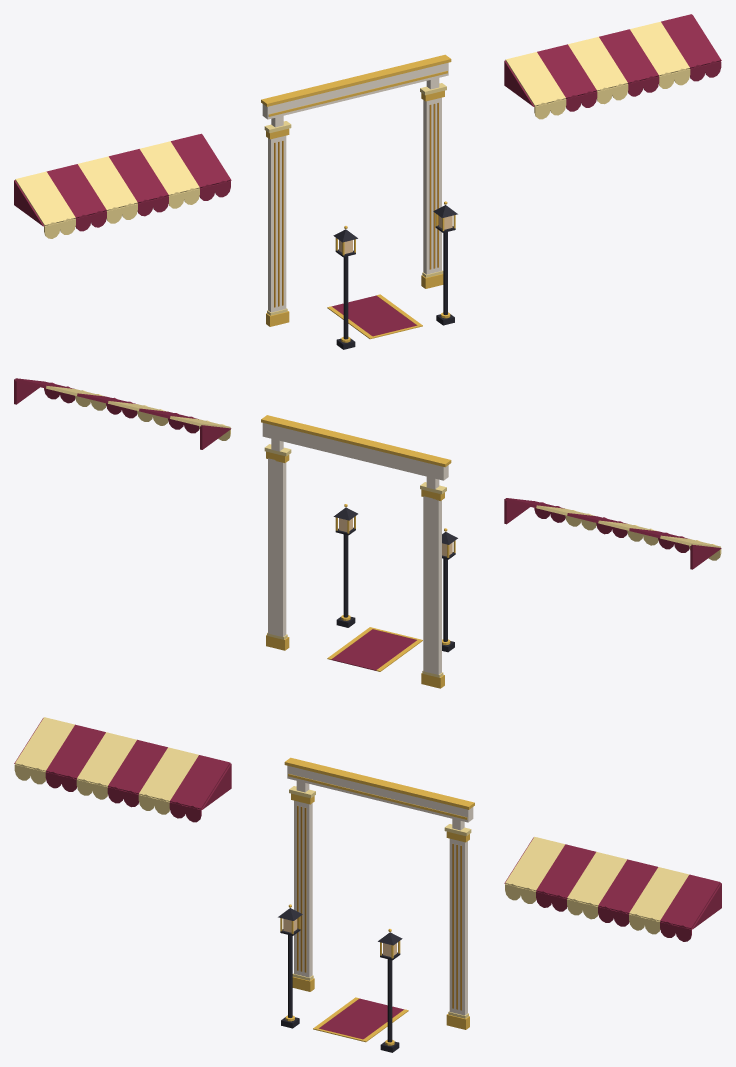
Rendered from CatCafe_Plot_ThemeGrand.glb.
The picture shows the model from 3 angles, top to bottom: view 1: azimuth 30°, elevation 25°; view 2: azimuth 150°, elevation 25°; view 3: azimuth 330°, elevation 25°; orthographic projection.
Parts seen in each view (by area): view 1: CatCafe_Plot_ThemeGrand_Awning, CatCafe_Plot_ThemeGrand; view 2: CatCafe_Plot_ThemeGrand, CatCafe_Plot_ThemeGrand_Awning; view 3: CatCafe_Plot_ThemeGrand_Awning, CatCafe_Plot_ThemeGrand.
Part boxes in pixels (x1=…): CatCafe_Plot_ThemeGrand_Awning: x1=14, y1=14, x2=721, y2=238; CatCafe_Plot_ThemeGrand: x1=261, y1=54, x2=457, y2=349; CatCafe_Plot_ThemeGrand: x1=261, y1=415, x2=457, y2=688; CatCafe_Plot_ThemeGrand_Awning: x1=14, y1=378, x2=721, y2=569; CatCafe_Plot_ThemeGrand_Awning: x1=14, y1=717, x2=721, y2=941; CatCafe_Plot_ThemeGrand: x1=278, y1=757, x2=474, y2=1052.
Bounding box in the file's own units: 40.15 × 12.75 × 4.86.
Materials: 1 (1 with a texture image).
